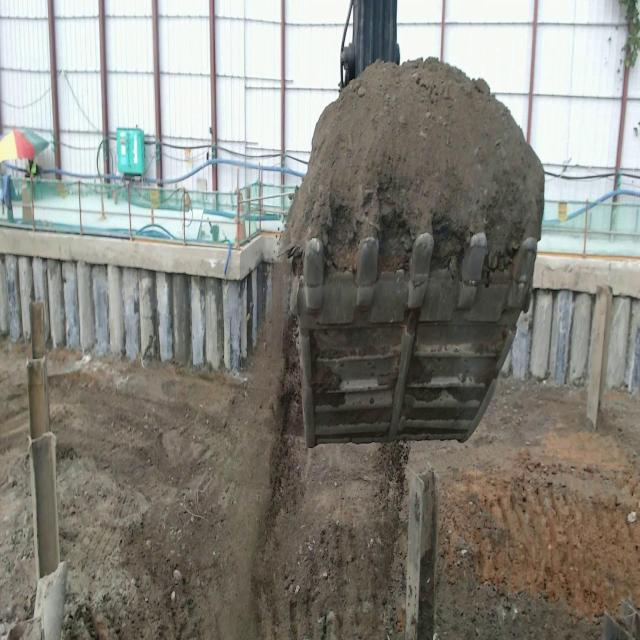red-sand: (49, 350, 640, 639), (281, 57, 544, 283), (0, 347, 35, 626)
